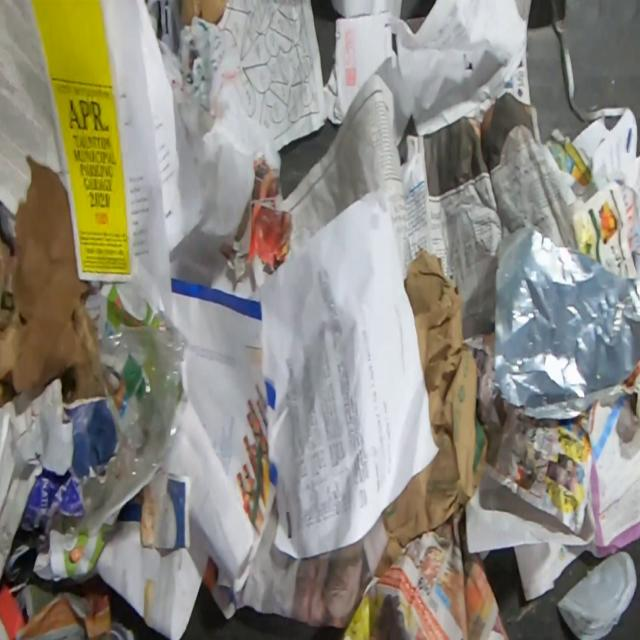cardboard: (371, 246, 491, 582), (0, 153, 124, 409), (9, 400, 114, 556), (180, 0, 226, 25)
rigid_plastic: (70, 305, 188, 539), (557, 550, 636, 640)
soft_plastic: (492, 224, 640, 419)
